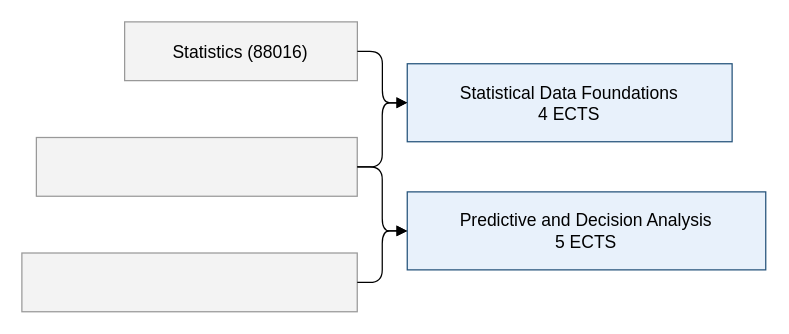
Some shapes in this 789 by 334 pixel diagram are drawn without their labels. Each missing label, with the centre of its shape:
Human Data Science (93469): [196,166]
Operational Analytics (95638): [189,282]
